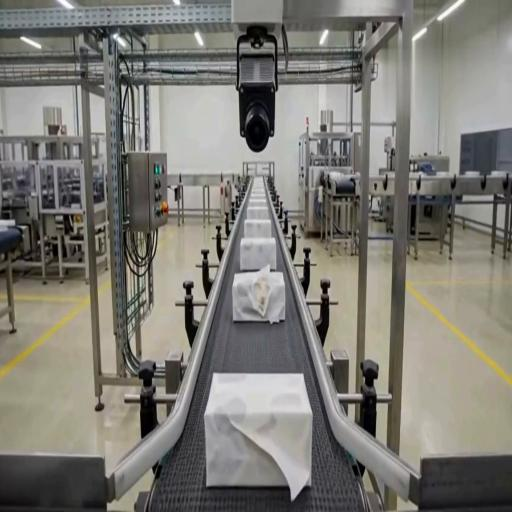defective: (201, 367, 321, 497), (231, 269, 286, 324), (239, 236, 277, 273)
good: (243, 218, 273, 239), (245, 205, 270, 221), (246, 174, 268, 188), (248, 182, 269, 196)
